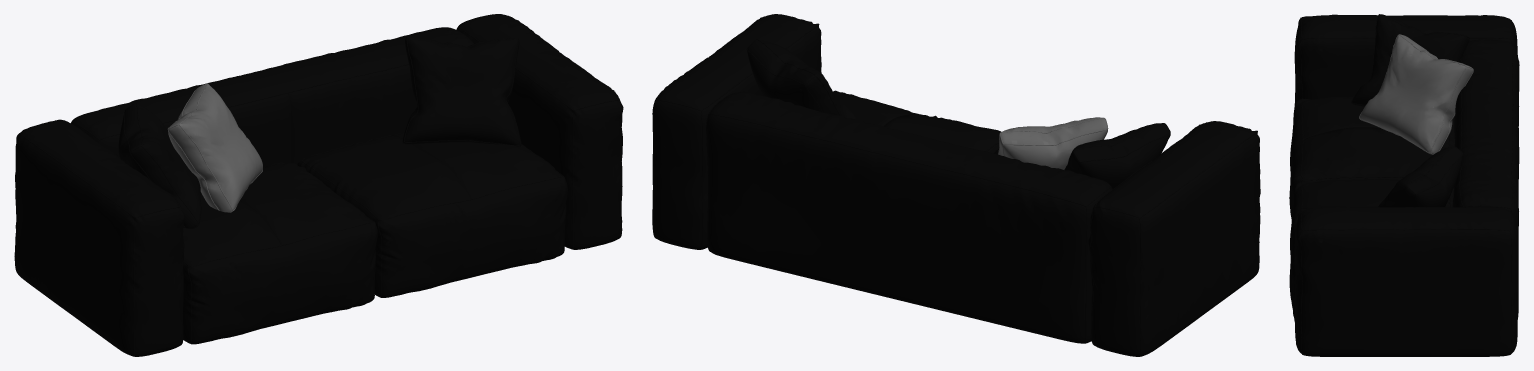
File: leather_sofa.glb
The picture shows the model from 3 angles, left to right: view 1: azimuth 30°, elevation 25°; view 2: azimuth 150°, elevation 25°; view 3: azimuth 270°, elevation 25°; orthographic projection. The views are drawn at different scales.
Parts seen in each view (by area): view 1: Leather Sofa; view 2: Leather Sofa; view 3: Leather Sofa.
Boxes of the visible parts, x1,y1,x2,y2 form: Leather Sofa: (14, 14, 623, 356); Leather Sofa: (652, 14, 1260, 356); Leather Sofa: (1289, 14, 1519, 356).
Bounding box in the file's own units: 2.38 × 0.8127 × 1.05.
Materials: 3 (3 with a texture image).
